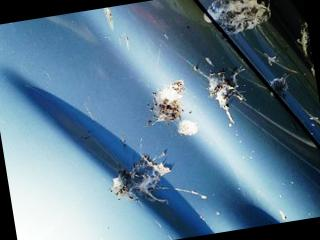Bird Poop: (111, 155, 172, 200), (148, 80, 197, 134), (207, 0, 271, 33), (208, 67, 245, 121), (297, 21, 315, 75), (259, 51, 297, 72), (271, 74, 288, 95), (175, 188, 206, 198), (104, 6, 112, 28), (204, 13, 211, 22), (280, 210, 287, 219), (206, 57, 213, 65)
